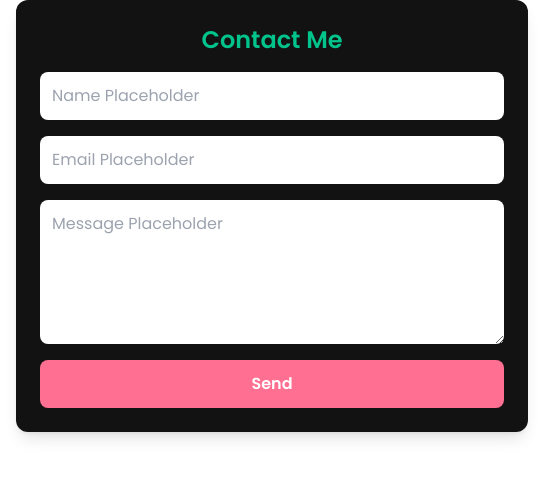
Test case: MessageMe › should submite the message and show the error if it failed
Type "John Doe" into the field with placeholder "Name Placeholder" at point(272, 96), box [40, 72, 504, 120]
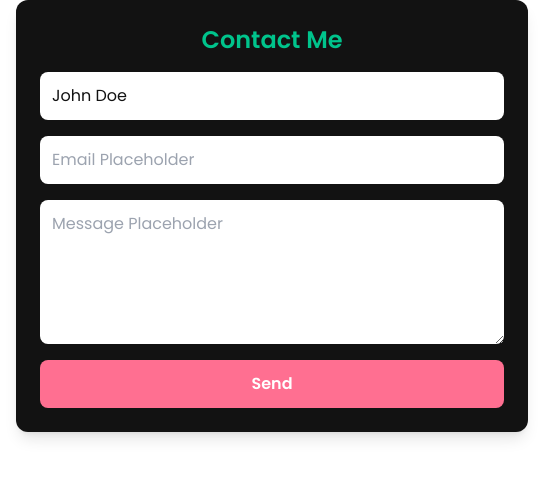
Type "john@example.com" into the field with placeholder "Email Placeholder" at point(272, 160), box [40, 136, 504, 184]
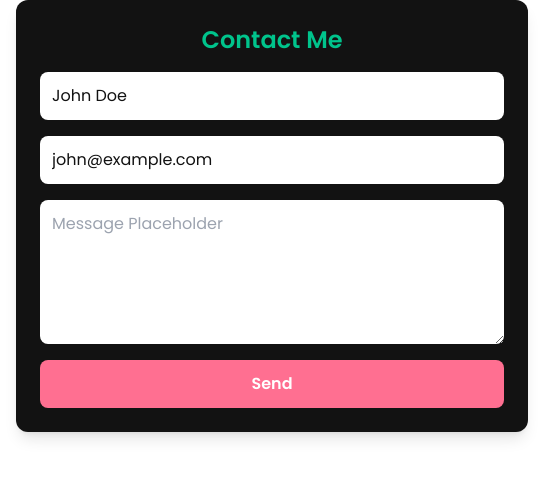
Type "Hello" into the text box with placeholder "Message Placeholder" at point(272, 272), box [40, 200, 504, 344]
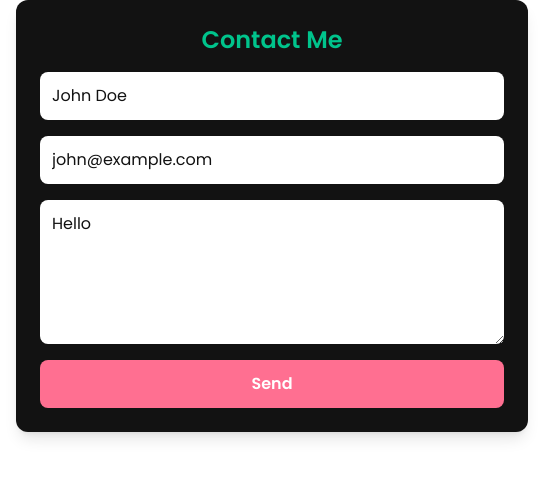
Click the button "Send" at point(272, 384), box [40, 360, 504, 408]
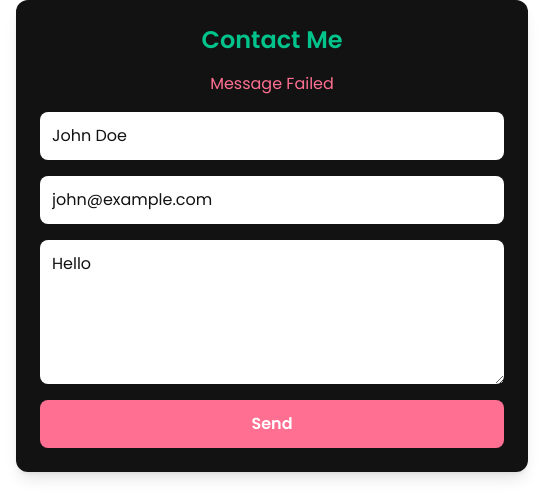
Expected: the button "Sending..." is shown, [40, 400, 504, 448]
Expected: the text "Message Failed" is shown, [210, 72, 334, 95]
